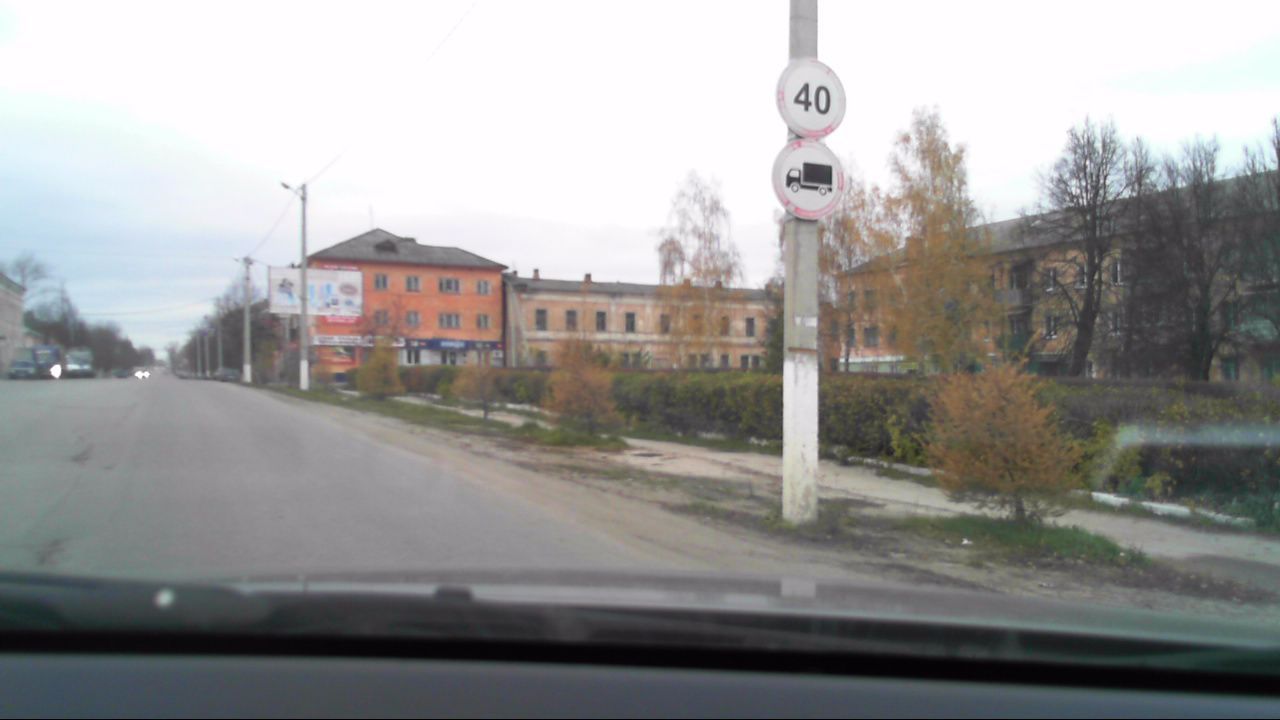speed_warning_40: (775, 56, 845, 140)
